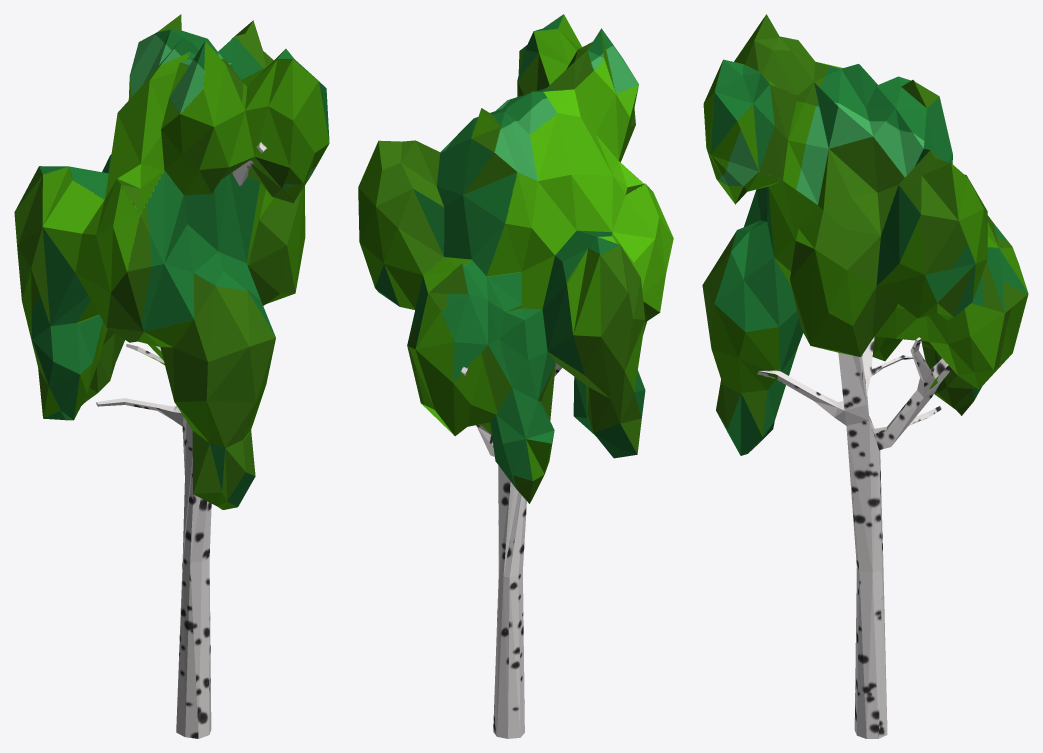
Rendered from tree5.glb.
The picture shows the model from 3 angles, left to right: view 1: azimuth 30°, elevation 25°; view 2: azimuth 150°, elevation 25°; view 3: azimuth 270°, elevation 25°; orthographic projection. The views are drawn at different scales.
Parts seen in each view (by area): view 1: _5_tree; view 2: _5_tree; view 3: _5_tree.
Boxes of the visible parts, left/top/right/bottom form: _5_tree: left=14, top=14, right=329, bottom=738; _5_tree: left=358, top=14, right=673, bottom=738; _5_tree: left=702, top=14, right=1028, bottom=738.
Size of the model in its own units: 0.8389 by 2.13 by 0.9014.
1 material, 1 textured.
